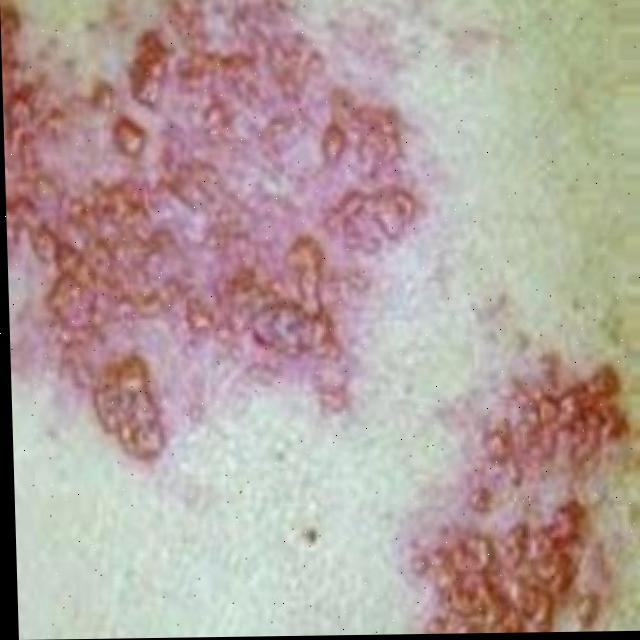Shingles: (0, 0, 432, 462), (415, 363, 626, 634)
